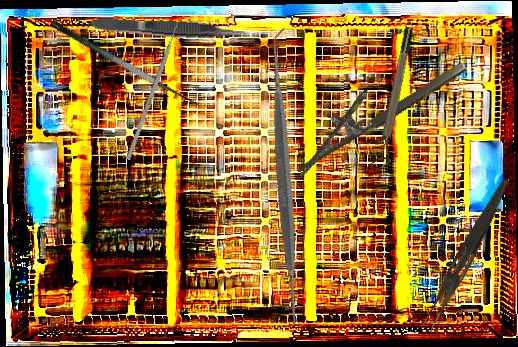Dressing Forceps: (420, 174, 512, 336)
Fixation Ring: (371, 25, 422, 169)
Needle Holder: (280, 39, 468, 177)
Pusher: (125, 12, 184, 161)
Spatula Surgical: (132, 27, 438, 333), (48, 6, 206, 114)
Tissue Forceps: (88, 12, 251, 45)
